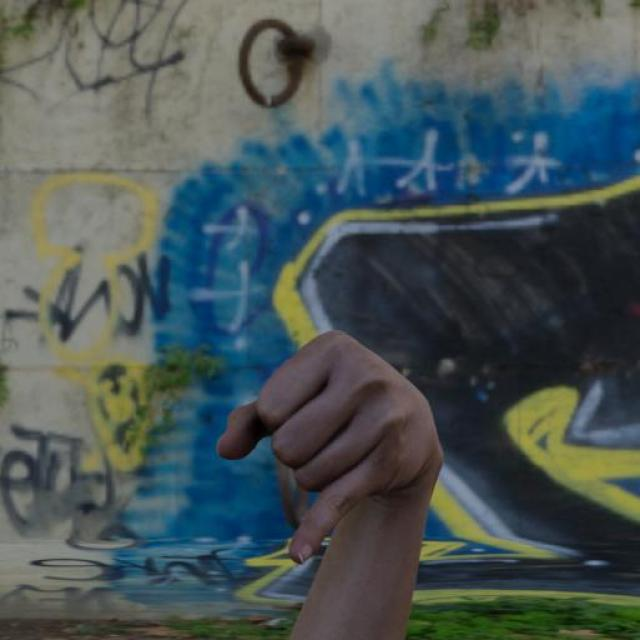J: (208, 320, 447, 592)
